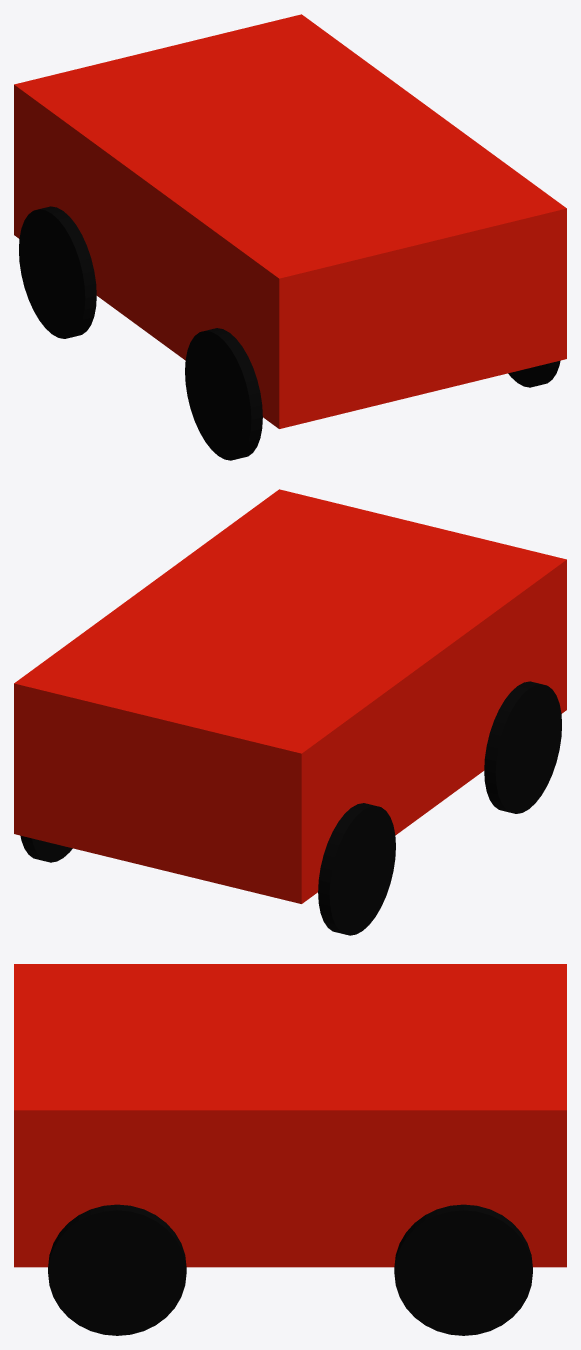
Rendered from ProtoTypeCar.glb.
3 views of the same model, one above another, from view 1: azimuth 30°, elevation 25°; view 2: azimuth 150°, elevation 25°; view 3: azimuth 270°, elevation 25° (orthographic). The views are drawn at different scales.
Parts seen in each view (by area): view 1: BasicCarShape, TireFrontLeft, TireBackLeft, TireBackRight; view 2: BasicCarShape, TireFrontLeft, TireBackLeft, TireFrontRight; view 3: BasicCarShape, TireFrontRight, TireBackRight.
Part boxes in pixels (x1,y1,x2,y2): BasicCarShape: [14, 14, 566, 428]; TireFrontLeft: [19, 206, 96, 338]; TireBackLeft: [185, 328, 262, 460]; TireBackRight: [508, 360, 560, 387]; BasicCarShape: [14, 489, 566, 903]; TireFrontLeft: [318, 803, 395, 935]; TireBackLeft: [484, 681, 561, 813]; TireFrontRight: [20, 835, 72, 862]; BasicCarShape: [14, 964, 566, 1267]; TireFrontRight: [394, 1204, 532, 1335]; TireBackRight: [48, 1204, 186, 1335].
Bounding box in the file's own units: 2.16 × 1.4 × 3.19.
